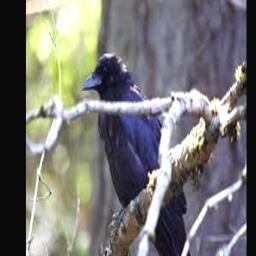Crow: (83, 52, 197, 256)
